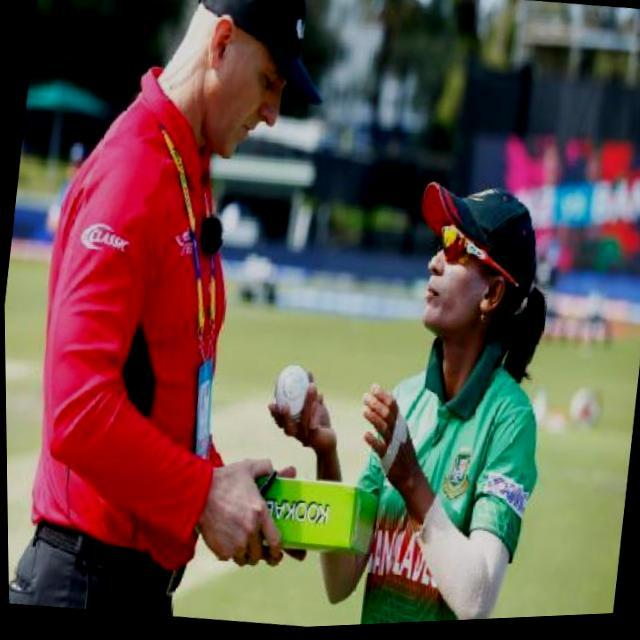-: (258, 353, 325, 438)
